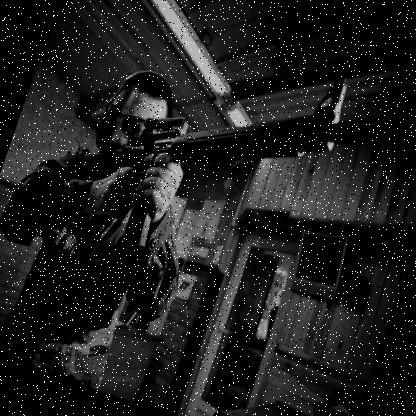rifle: (37, 0, 416, 335)
